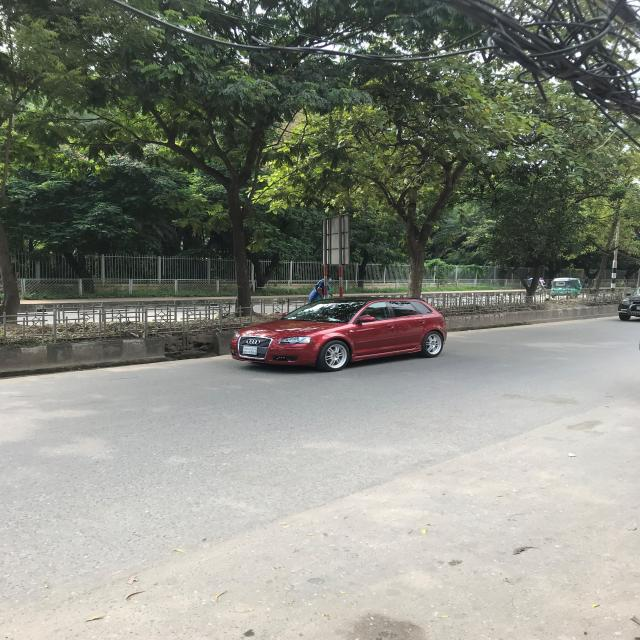black: (618, 288, 640, 320)
maroon: (229, 297, 449, 370)
